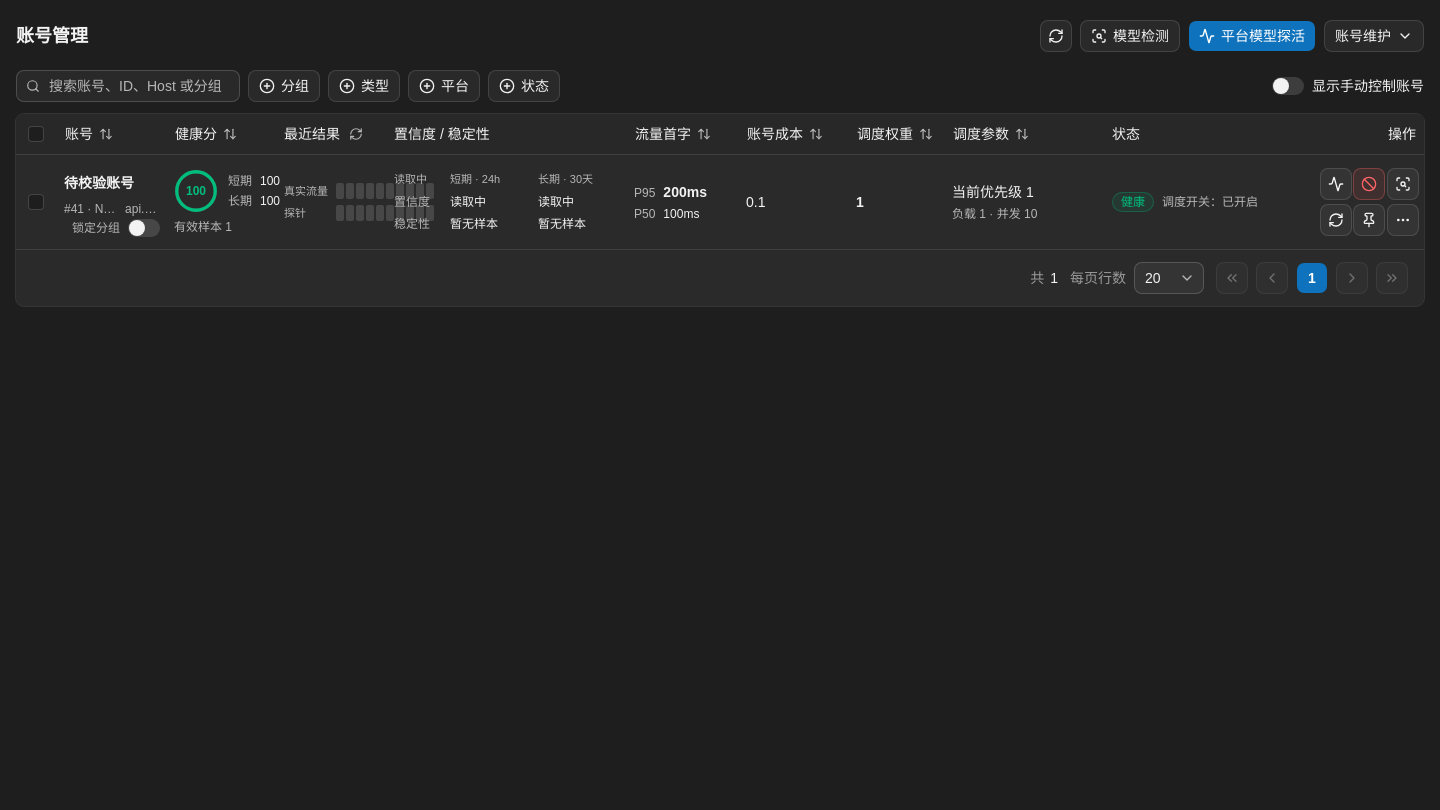
复验绑定任务已创建而首次状态尚未返回时持续展示加载状态
This screenshot has width=1440, height=810.
Check: the text "待校验账号" is shown, box [64, 172, 134, 192]
Step 1. Click the button "账号维护" → (1374, 36), box [1324, 20, 1424, 52]
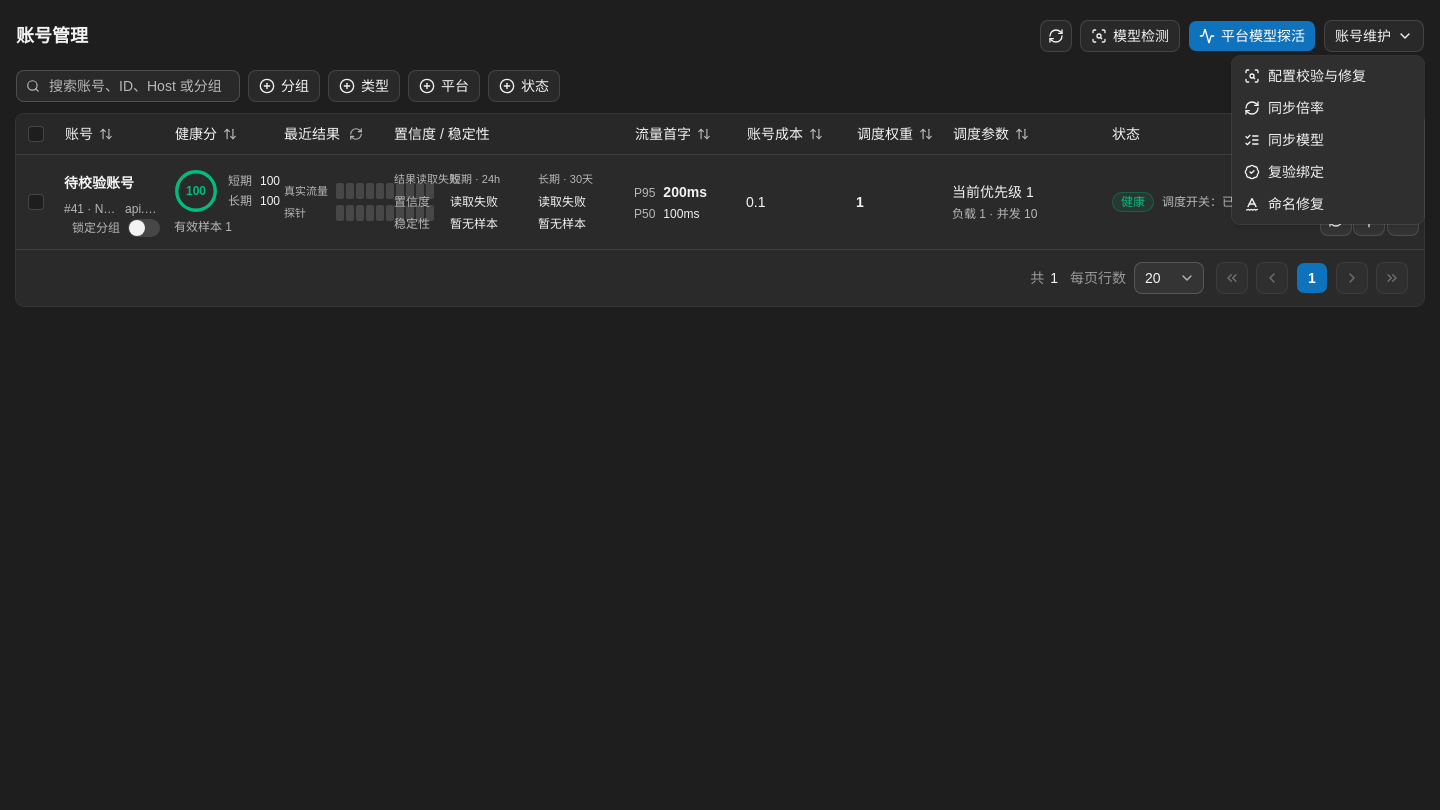
Step 2. Click the menu item "复验绑定" → (1284, 172), box [1244, 164, 1324, 180]
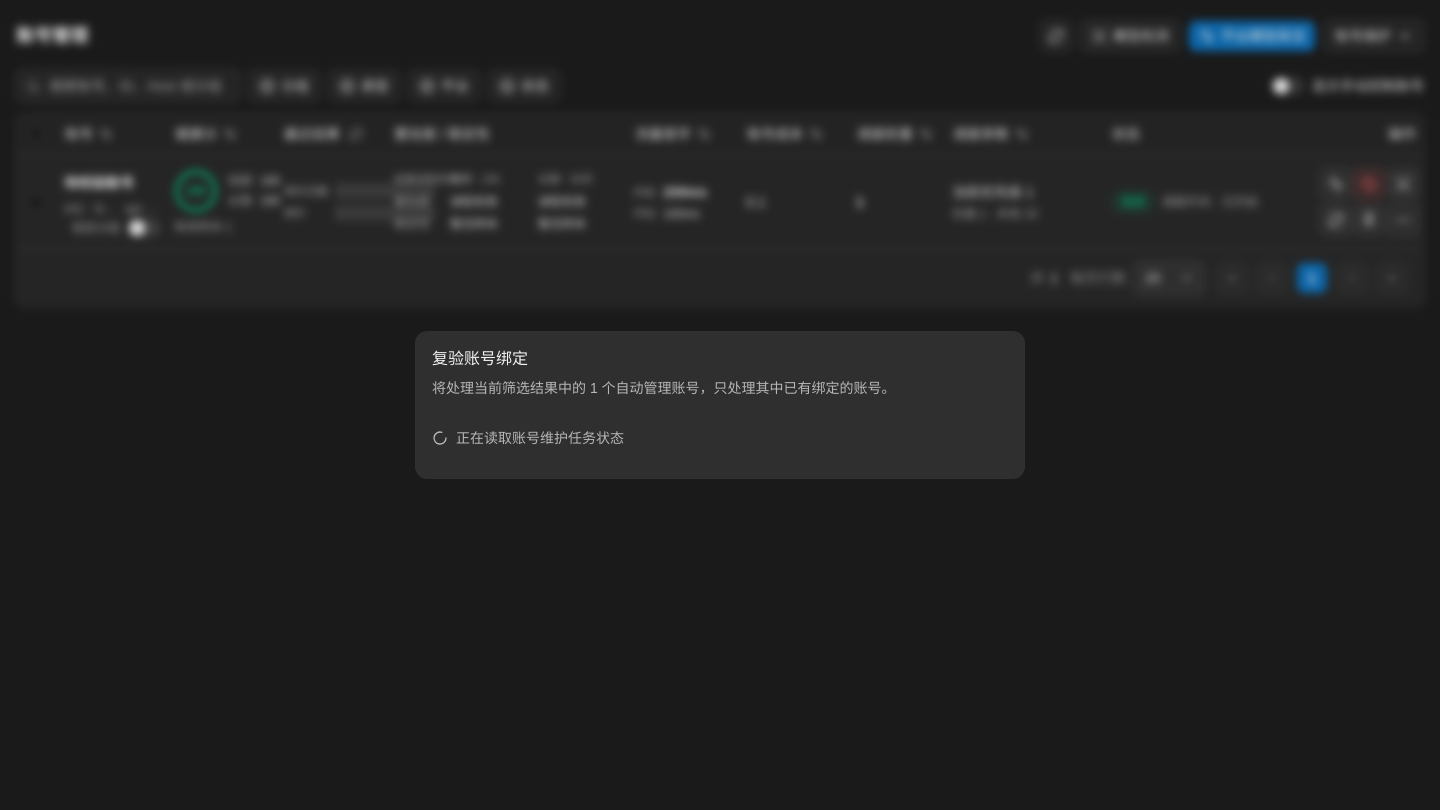
Check: the message "正在读取账号维护任务状态" is shown, box [432, 430, 624, 446]
